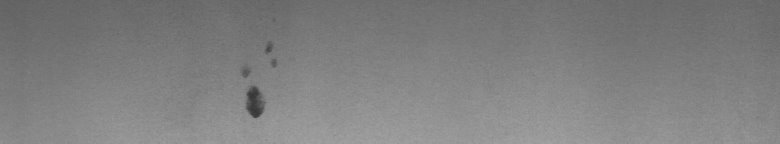fi: (240, 37, 277, 124)
